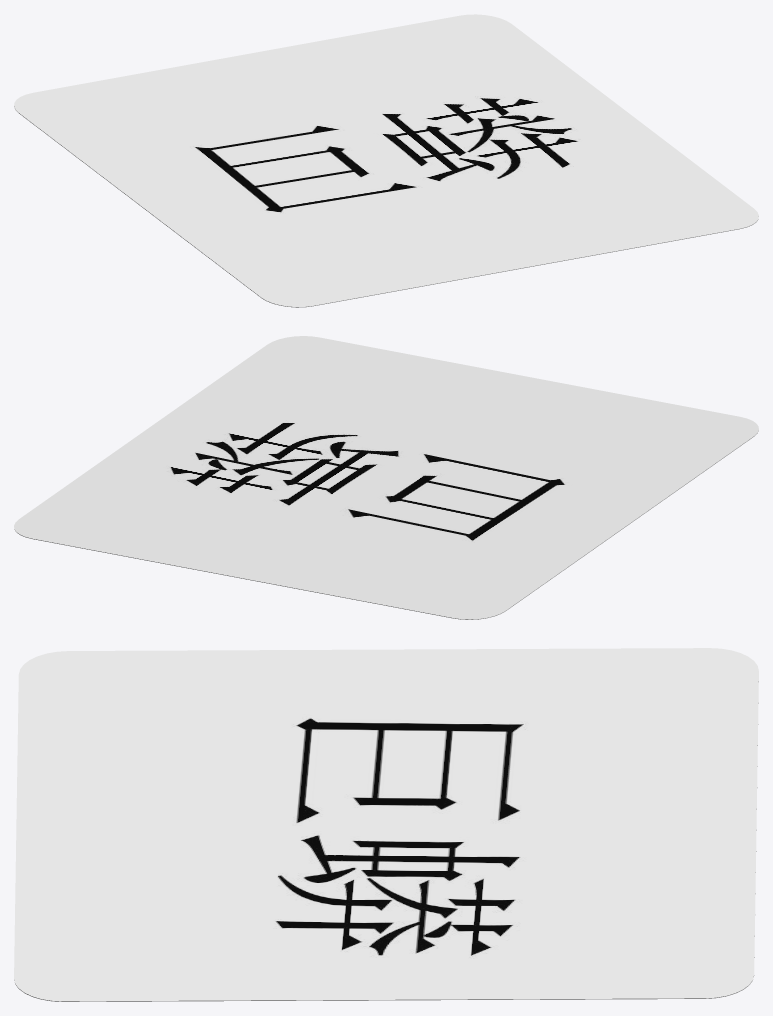
The model's file is JuMang.FBX.
3 renders of one model, top to bottom at view 1: azimuth 30°, elevation 25°; view 2: azimuth 150°, elevation 25°; view 3: azimuth 270°, elevation 25°, orthographic. The views are drawn at different scales.
Visible parts, largest first — view 1: Rectangle001; view 2: Rectangle001; view 3: Rectangle001.
Boxes of the visible parts, bbox=[...] form: Rectangle001: bbox=[14, 14, 758, 307]; Rectangle001: bbox=[14, 336, 758, 619]; Rectangle001: bbox=[14, 648, 758, 1001].
Bounding box in the file's own units: 60.32 × 3.91 × 60.38.
